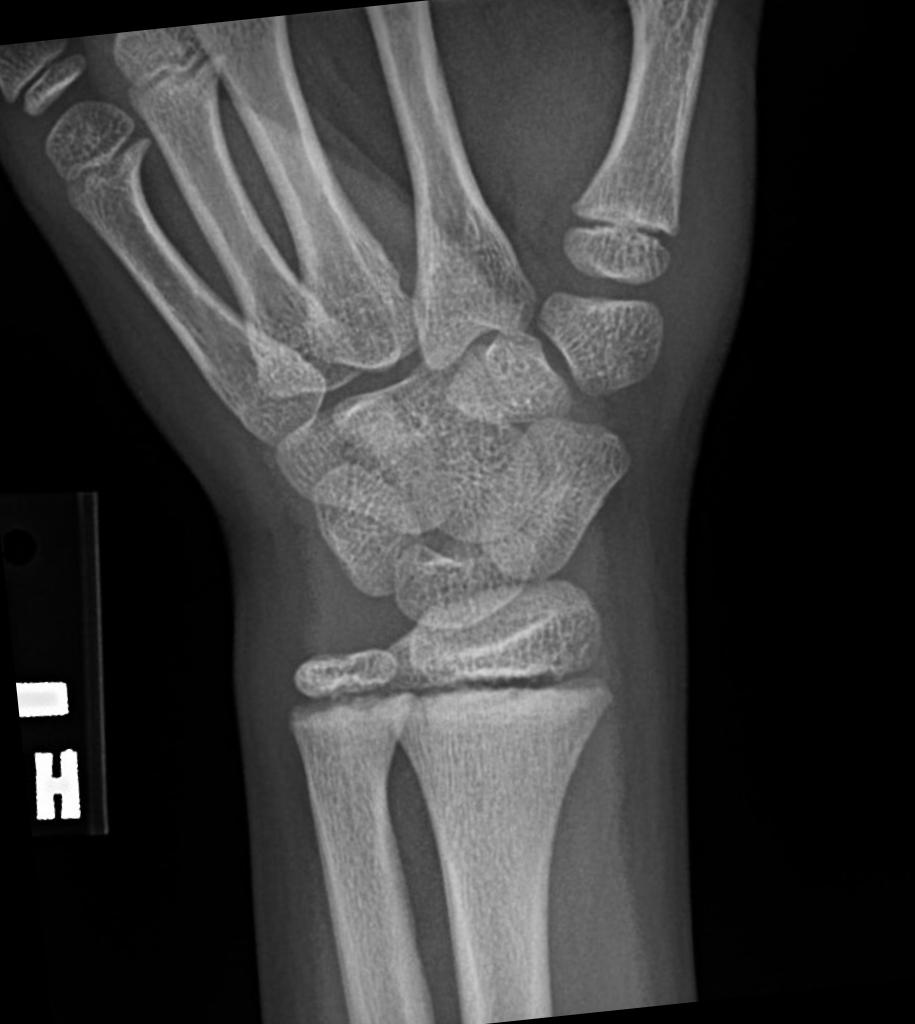fracture: (54, 118, 156, 210)
